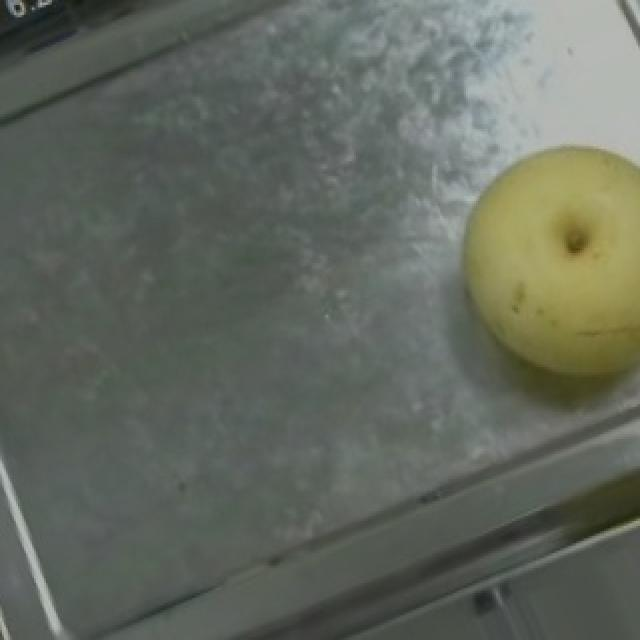Fruit: (420, 109, 640, 419)
